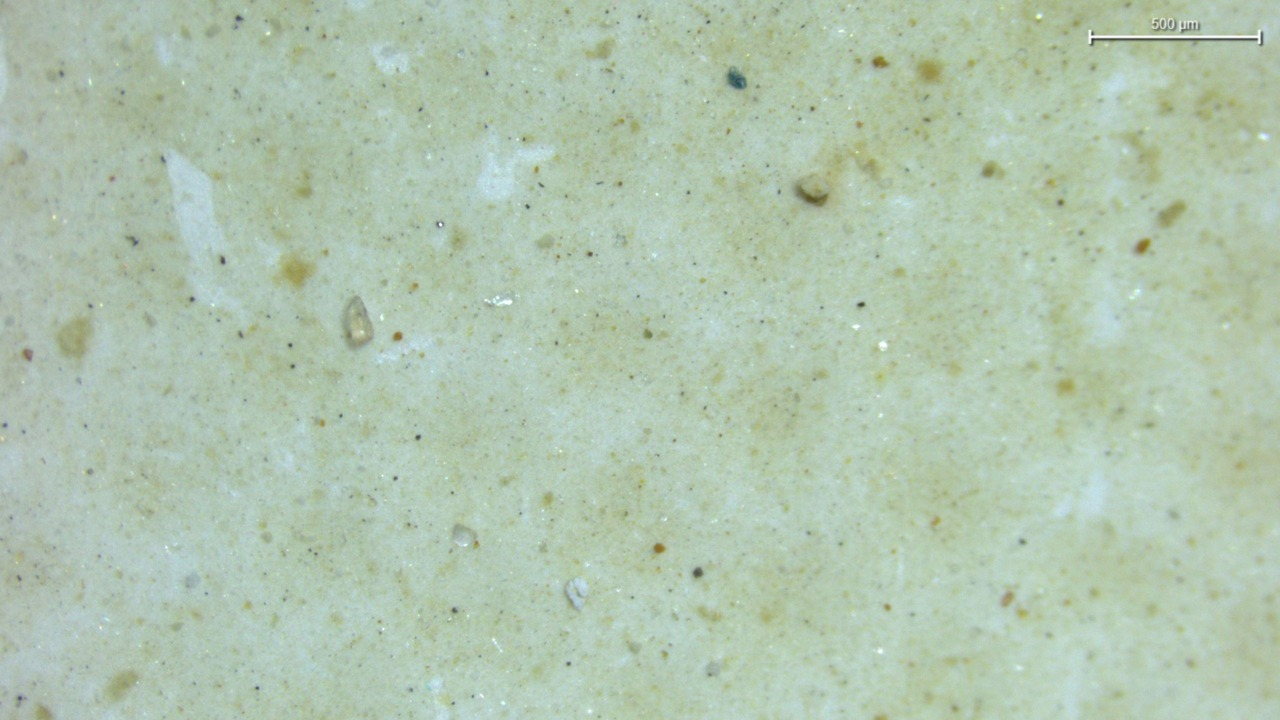microplastic_fragment: (343, 295, 373, 347), (797, 173, 830, 204), (565, 577, 589, 610), (450, 524, 477, 547)
